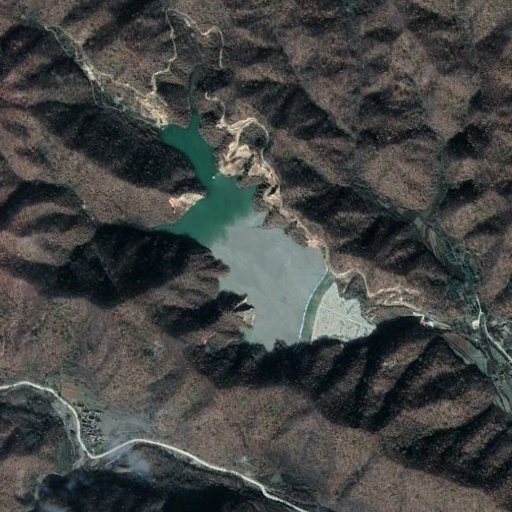tp: (155, 112, 373, 349)
